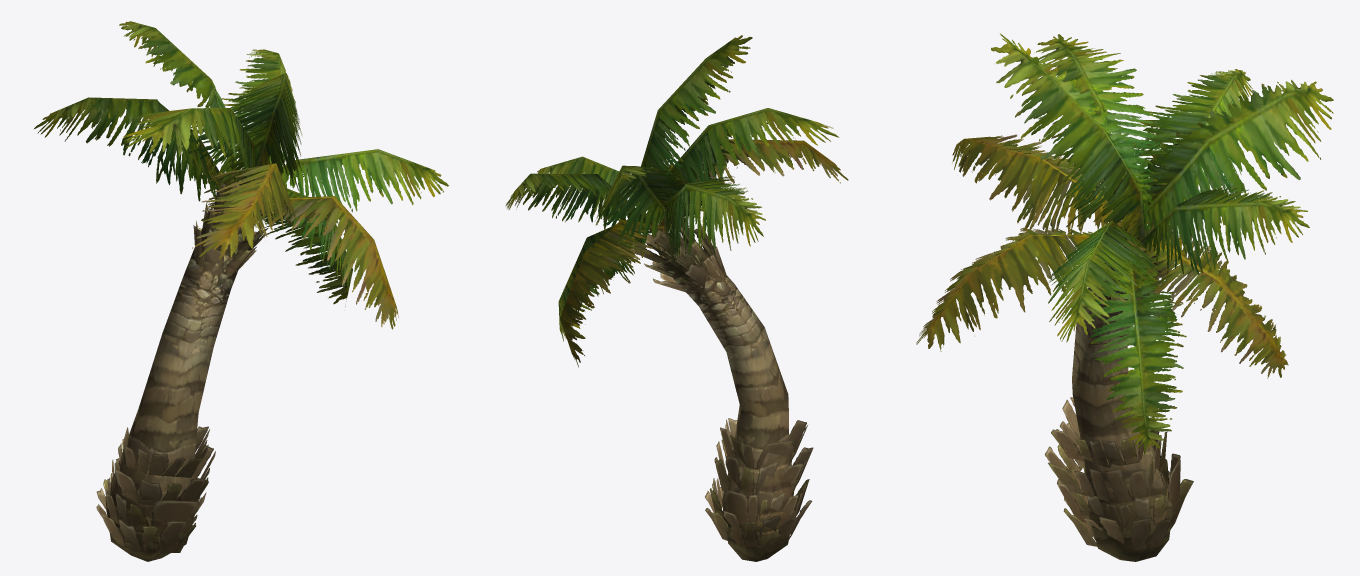
File: PalmtreeB.FBX
3 views of the same model, side by side, from view 1: azimuth 30°, elevation 25°; view 2: azimuth 150°, elevation 25°; view 3: azimuth 270°, elevation 25° (orthographic). The views are drawn at different scales.
Visible parts, largest first — view 1: PalmtreeB; view 2: PalmtreeB; view 3: PalmtreeB.
Part boxes in pixels (box(x1,y1,x2,y2)): PalmtreeB: box(34, 21, 448, 561); PalmtreeB: box(505, 35, 848, 561); PalmtreeB: box(916, 33, 1333, 561).
Size of the model in its own units: 339 by 454 by 318.
Materials: 1 (1 with a texture image).
